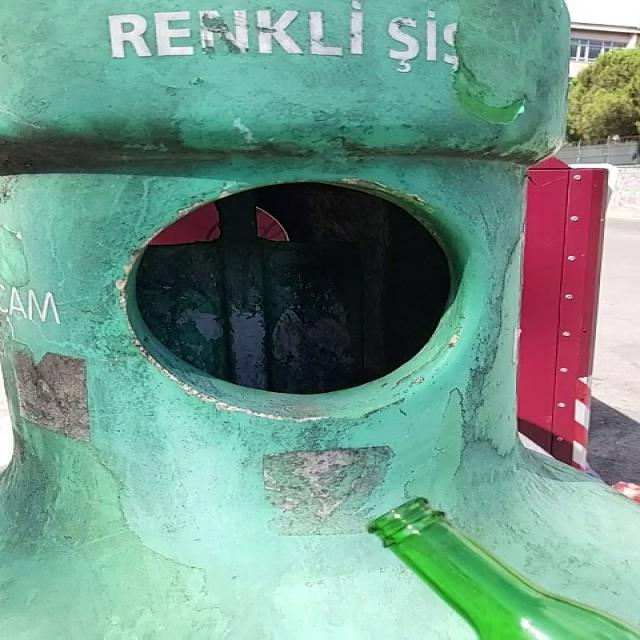glass: (368, 500, 640, 640)
